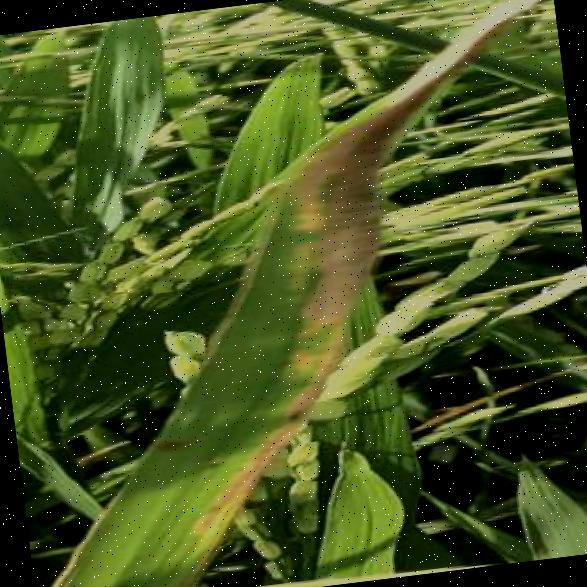Bacteria_Leaf_Blight: (196, 129, 392, 373)
